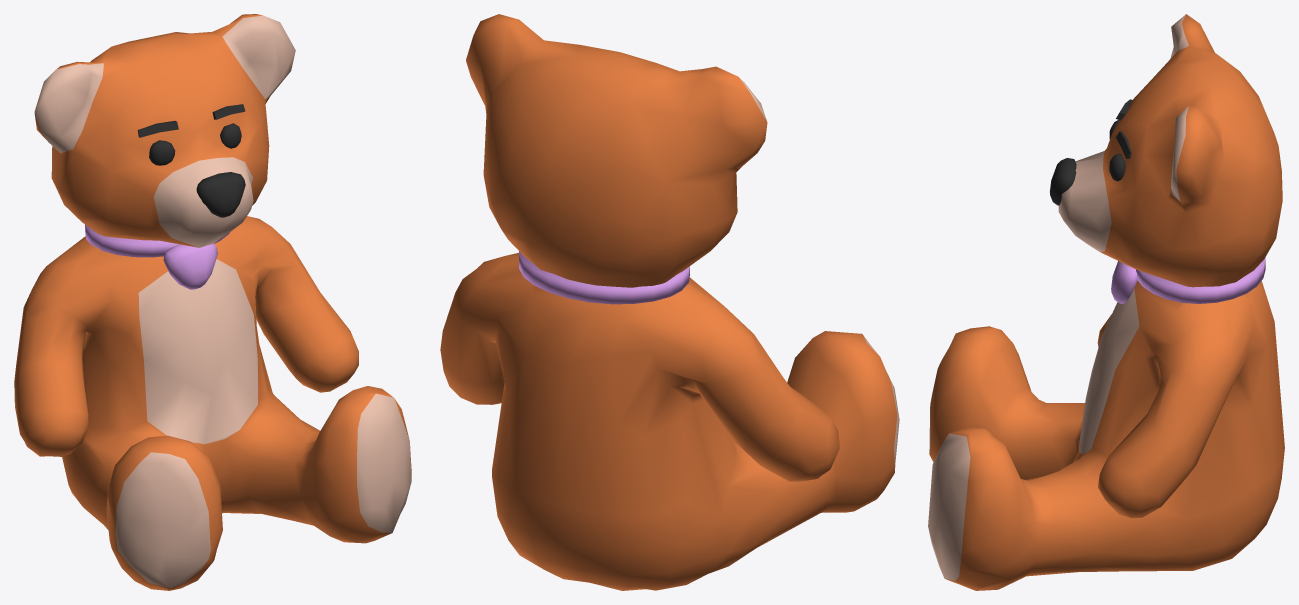
The model's file is OyuncakAyi.fbx.
3 renders of one model, left to right at view 1: azimuth 30°, elevation 25°; view 2: azimuth 150°, elevation 25°; view 3: azimuth 270°, elevation 25°, orthographic. The views are drawn at different scales.
Visible parts, largest first — view 1: OyuncakAyi; view 2: OyuncakAyi; view 3: OyuncakAyi.
Boxes of the visible parts, x1=… form: OyuncakAyi: x1=14, y1=14, x2=411, y2=590; OyuncakAyi: x1=440, y1=14, x2=899, y2=590; OyuncakAyi: x1=928, y1=14, x2=1284, y2=590.
Size of the model in its own units: 204 by 270 by 182.
